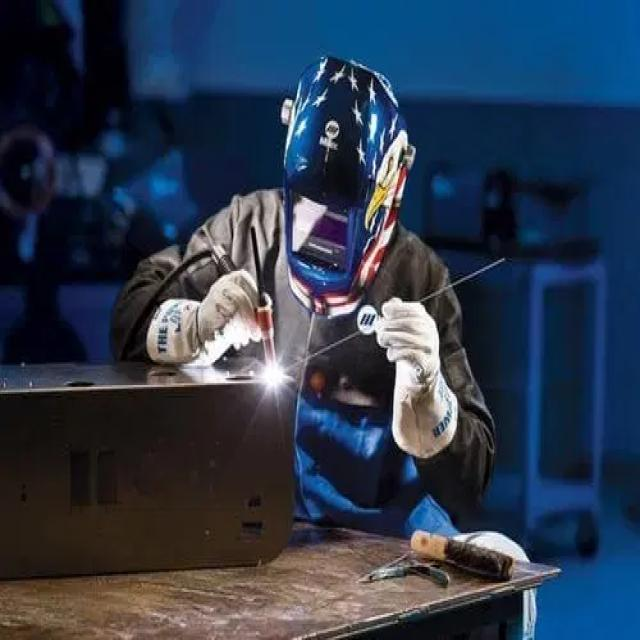welding: (259, 358, 289, 392)
